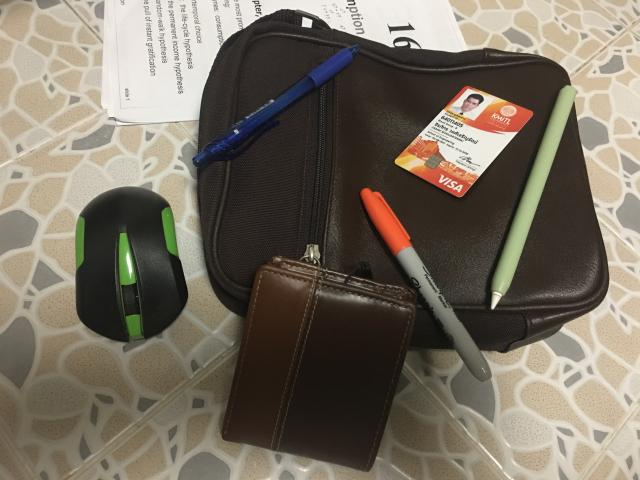Mouse: (75, 186, 188, 341)
Pen: (360, 188, 491, 381), (192, 45, 359, 168)
Wallet: (222, 256, 416, 471)
paper: (101, 0, 489, 124)
